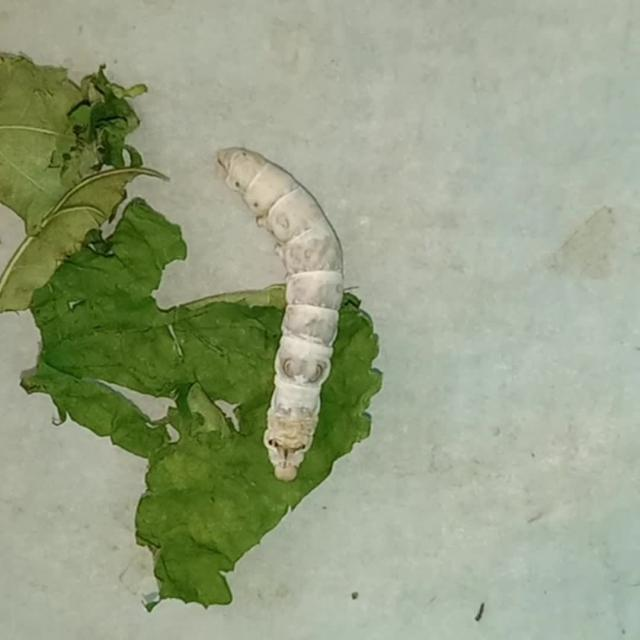Grasserie: (199, 106, 351, 492)
